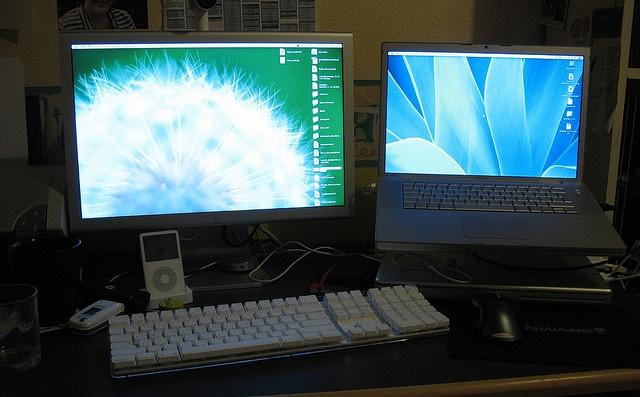AIO PC-Monitor-TV: (58, 30, 355, 239)
